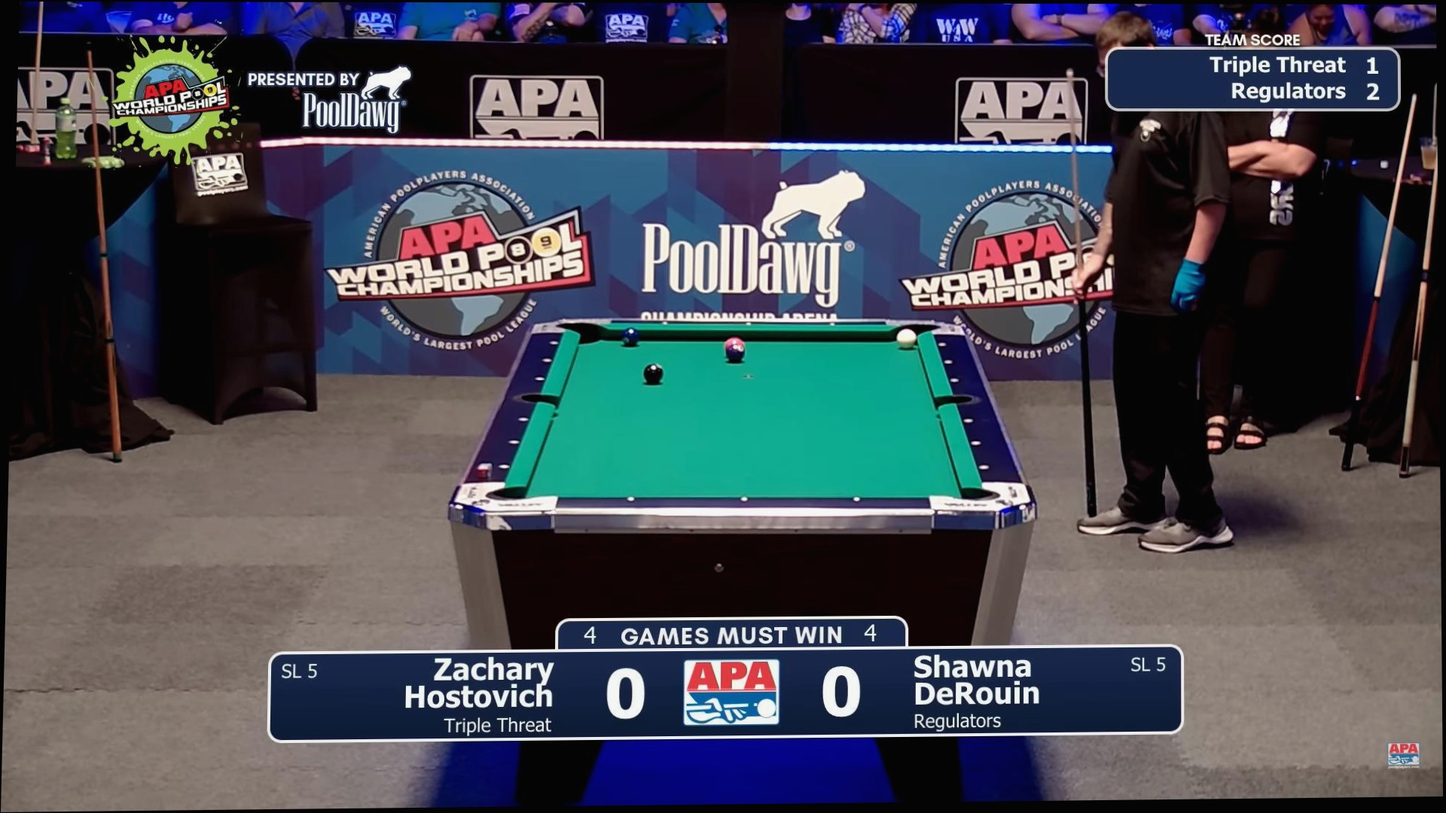Black: (644, 363, 664, 384)
Cue: (896, 329, 917, 349)
Solid: (534, 374, 545, 382), (659, 319, 670, 327), (942, 358, 953, 366), (963, 417, 974, 425), (510, 438, 520, 446), (519, 415, 529, 423), (543, 356, 553, 364), (827, 320, 837, 328), (937, 340, 947, 348), (971, 440, 981, 448), (626, 495, 636, 503), (499, 463, 510, 470), (549, 340, 560, 347), (743, 320, 754, 327), (978, 463, 989, 470), (949, 377, 959, 384), (852, 496, 862, 503), (739, 496, 749, 503)
Striped: (726, 344, 745, 363), (622, 327, 640, 346), (725, 337, 745, 350)
